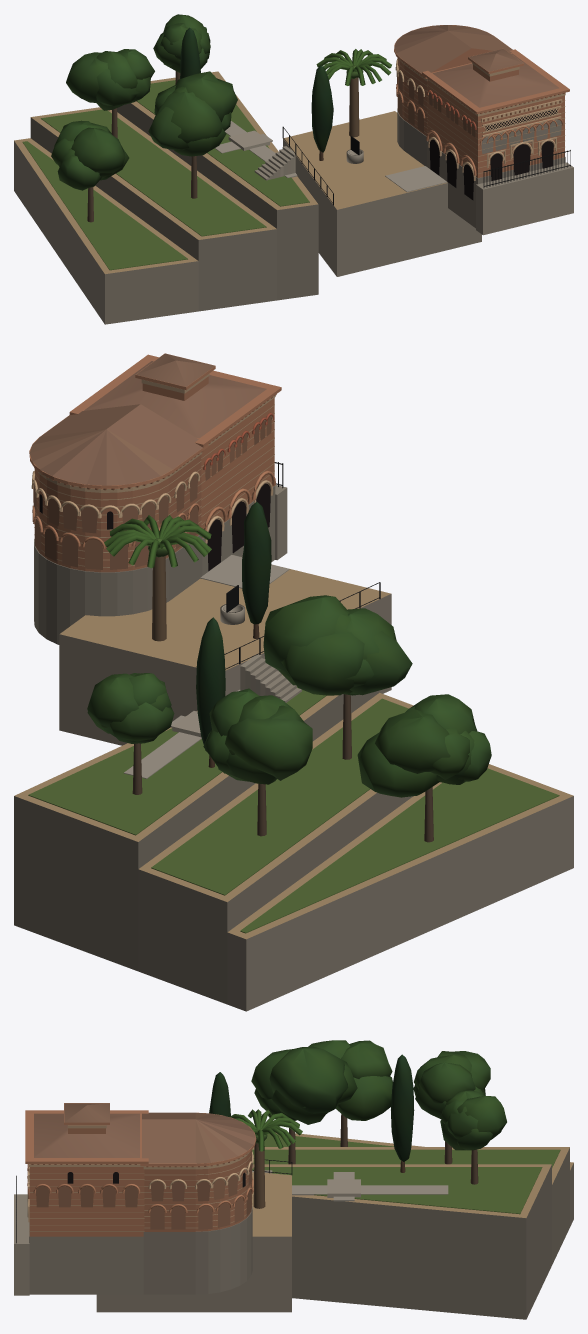
3 views of the same model, one above another, from view 1: azimuth 30°, elevation 25°; view 2: azimuth 150°, elevation 25°; view 3: azimuth 270°, elevation 25° (orthographic). The views are drawn at different scales.
Visible parts, largest first — view 1: cristo_de_la_luz; view 2: cristo_de_la_luz; view 3: cristo_de_la_luz.
Boxes of the visible parts, x1,y1,x2,y2 form: cristo_de_la_luz: (14, 14, 573, 324); cristo_de_la_luz: (14, 353, 573, 1011); cristo_de_la_luz: (14, 1040, 573, 1319).
Bounding box in the file's own units: 37.99 × 22 × 42.96.
